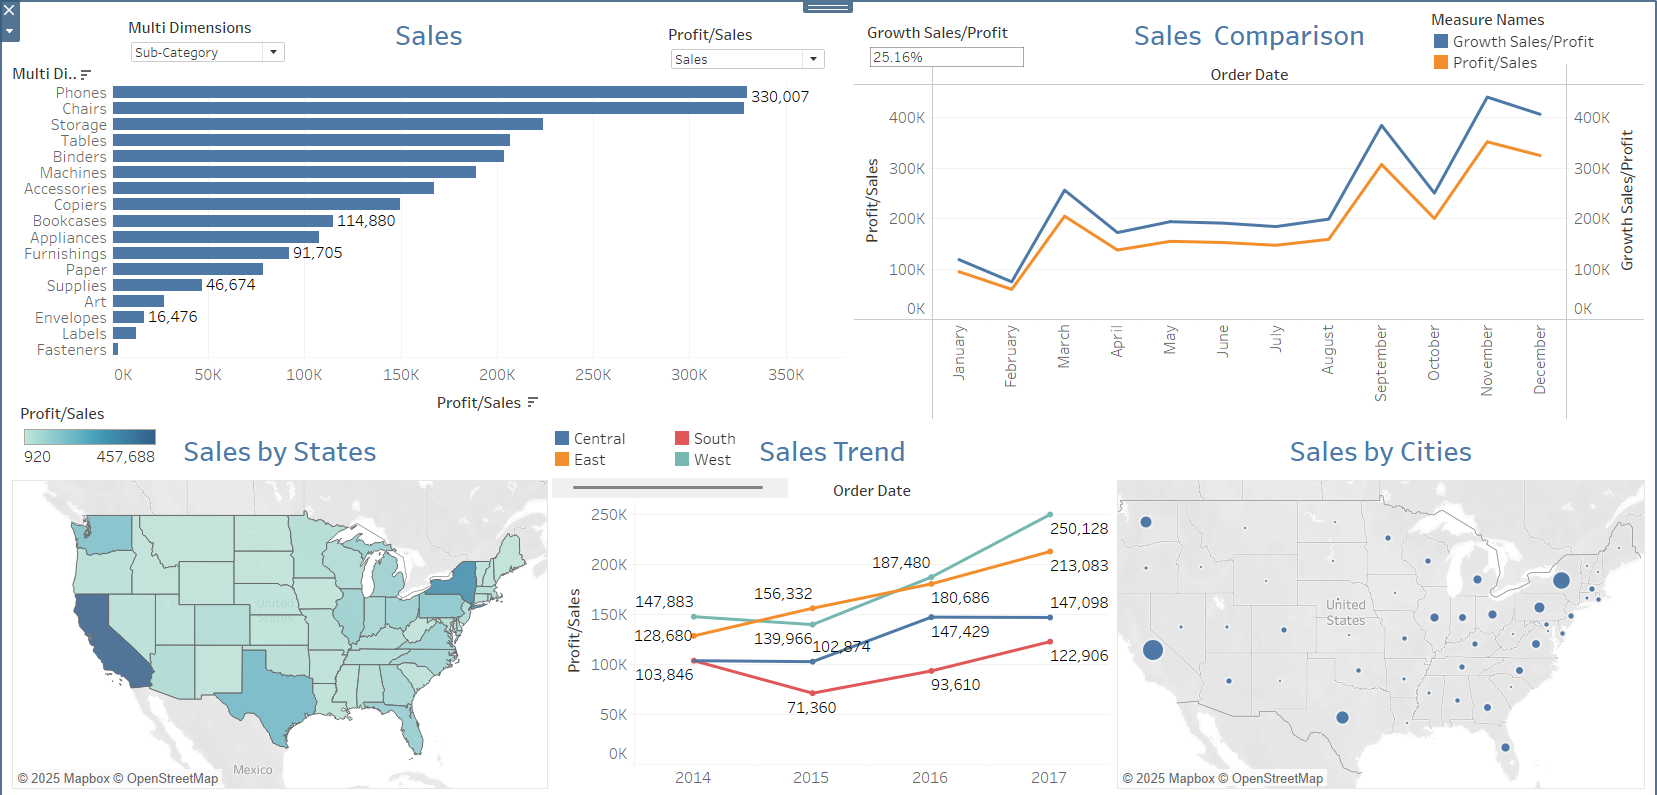

This screenshot's page, from the dashboard's own definition file:
{"tool":"tableau","page":{"name":"Dashboard 1","canvas":[1000,1000],"units":"permille","ordinal":0},"visuals":[{"type":"worksheet","title":"Sales/Profit by Dimensions","mark":"Automatic","rows":["Calculation_1261289385712951296"],"cols":["Calculation_1261289385714233345"],"box":[4.8,10,508.2,519.4]},{"type":"worksheet","title":"Sales/Profit Change","mark":"Line","rows":["Calculation_1261289385714233345","Calculation_1261289385728192514"],"cols":["Order Date"],"box":[513,10,482.2,519.4]},{"type":"legend","title":"Sales/Profit Change","param":"[federated.0iicazf0n2r28x13r0bhz0ngfhor].[:Measure Names]","box":[863.6,11.2,126.1,79.9]},{"type":"parameter","param":"[Parameters].[Parameter 1]","box":[77.2,21.2,96.6,59.9]},{"type":"parameter","param":"[Parameters].[Parameter 3]","box":[523.2,27.5,96.6,71.2]},{"type":"parameter","param":"[Parameters].[Parameter 2]","box":[403.1,30,96.6,59.9]},{"type":"legend","title":"Sales/Profit by States","param":"[federated.0iicazf0n2r28x13r0bhz0ngfhor].[sum:Calculation_1261289385714233345:qk","box":[12.1,503.1,84.5,81.2]},{"type":"legend","title":"Sales/Profit Trend","param":"[federated.0iicazf0n2r28x13r0bhz0ngfhor].[none:Region:nk]","box":[333.1,506.9,143.6,114.9]},{"type":"worksheet","title":"Sales/Profit by States","mark":"Automatic","box":[4.8,529.3,328.3,460.7]},{"type":"worksheet","title":"Sales/Profit Trend","mark":"Automatic","rows":["Calculation_1261289385714233345"],"cols":["Order Date"],"box":[333.1,529.3,338.6,460.7]},{"type":"worksheet","title":"Sales/Profit by City","mark":"Automatic","box":[671.7,529.3,323.5,460.7]}]}

Visuals, with their boxes on the dashboard's canvas, which has no fixed pixel size, in thousandths of its width and height (x1, y1, x2, y2). These are canvas units, not pixel positions in the 1657x795 screenshot, which may show the page scaled, cropped or inside an application window:
"Sales/Profit by Dimensions" worksheet: crop(5, 10, 513, 529)
"Sales/Profit Change" worksheet (Line marks): crop(513, 10, 995, 529)
"Sales/Profit Change" legend: crop(864, 11, 990, 91)
parameter: crop(77, 21, 174, 81)
parameter: crop(523, 28, 620, 99)
parameter: crop(403, 30, 500, 90)
"Sales/Profit by States" legend: crop(12, 503, 97, 584)
"Sales/Profit Trend" legend: crop(333, 507, 477, 622)
"Sales/Profit by States" worksheet: crop(5, 529, 333, 990)
"Sales/Profit Trend" worksheet: crop(333, 529, 672, 990)
"Sales/Profit by City" worksheet: crop(672, 529, 995, 990)
